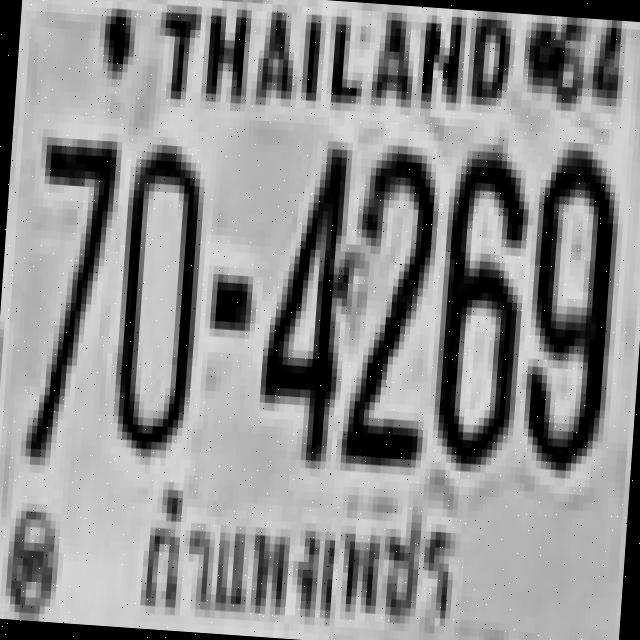0: (106, 135, 202, 451)
2: (341, 140, 438, 456), (343, 143, 437, 429)
4: (250, 132, 352, 458)
6: (426, 141, 528, 466)
7: (21, 129, 118, 453), (28, 128, 118, 352)
9: (516, 140, 618, 464)
KamphaengPhet: (128, 472, 469, 638)
